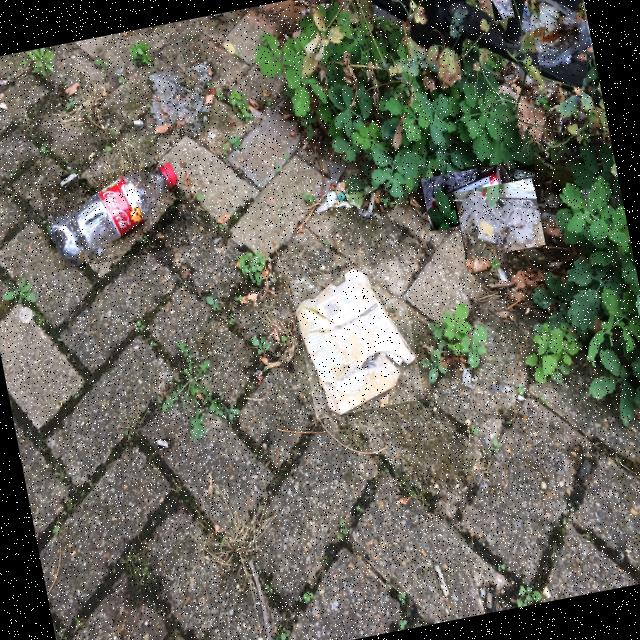Cigarette: (62, 174, 78, 185), (158, 440, 169, 447), (0, 79, 9, 85), (135, 121, 141, 125)
Clear plastic bottle: (49, 162, 178, 268)
Disposable food container: (528, 0, 590, 66)
Drink can: (426, 164, 515, 223)
Meal carton: (297, 269, 417, 415)
Normal paper: (461, 189, 540, 248)
Plastic bottle cap: (163, 162, 178, 187)
Unlabeled litter: (510, 169, 538, 188), (493, 0, 514, 19)
